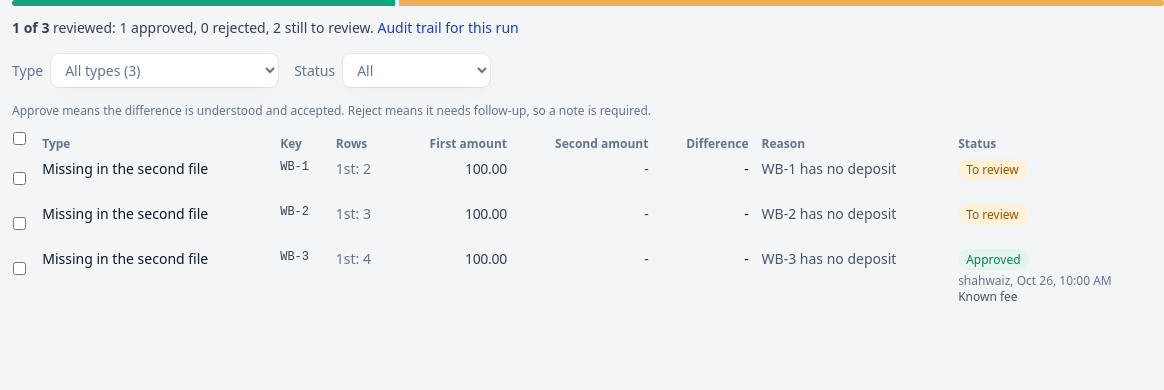
Test case: approves the checked exceptions in one go
Click the checkbox named "Select WB-1" at (20, 178), box [13,172,26,185]
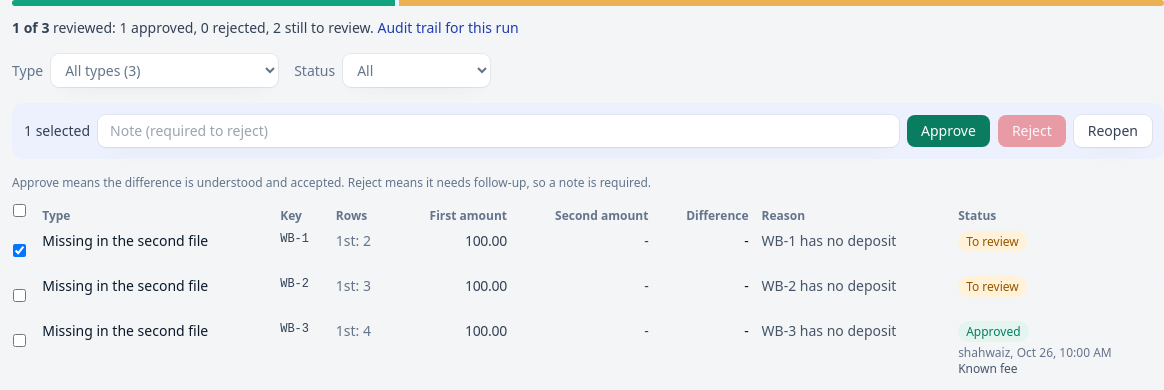
Click the checkbox named "Select WB-2" at (20, 296), box [13,289,26,302]
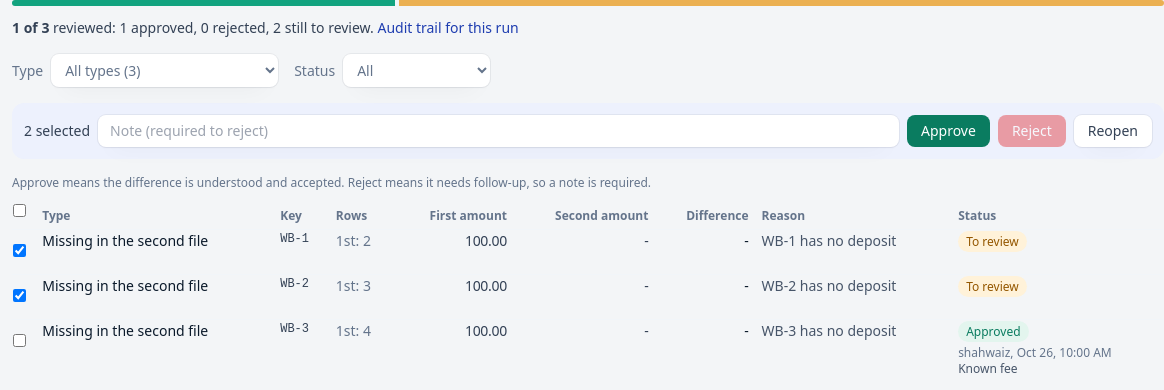
expect the text "2 selected" is shown: met, box [24,121,90,141]
Click the button "Approve" at (948, 131), box [907,115,990,147]
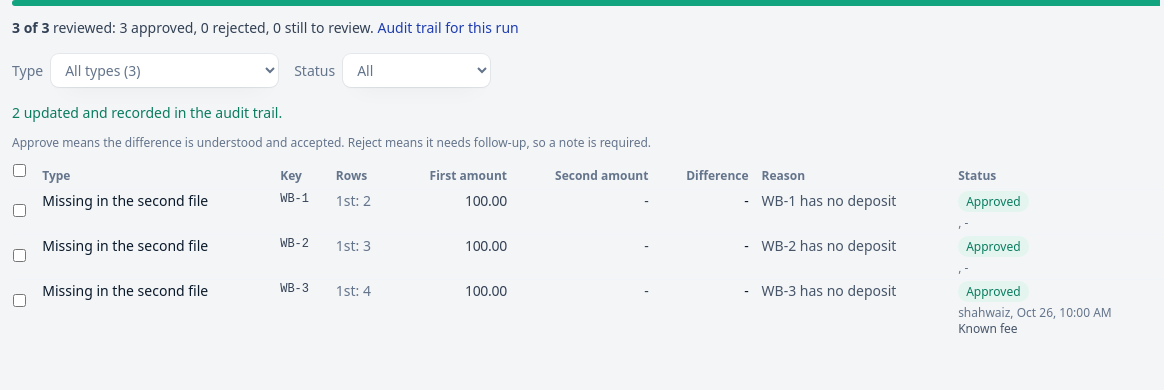
expect the text "2 updated and recorded in the audit trail." is shown: met, box [12,103,282,122]
